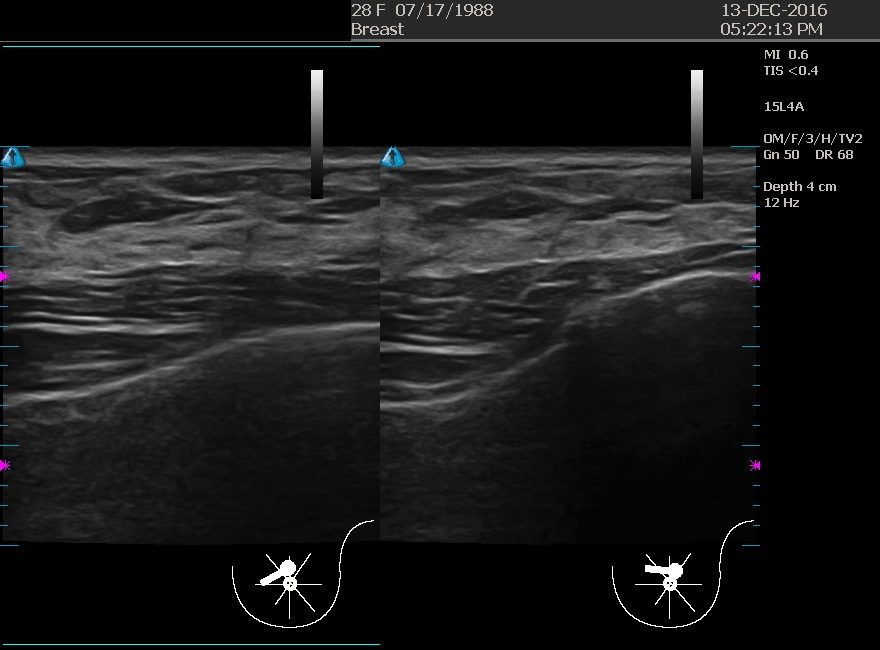BIRADS_2: (384, 175, 584, 376)
BIRADS_3: (31, 149, 231, 349)
